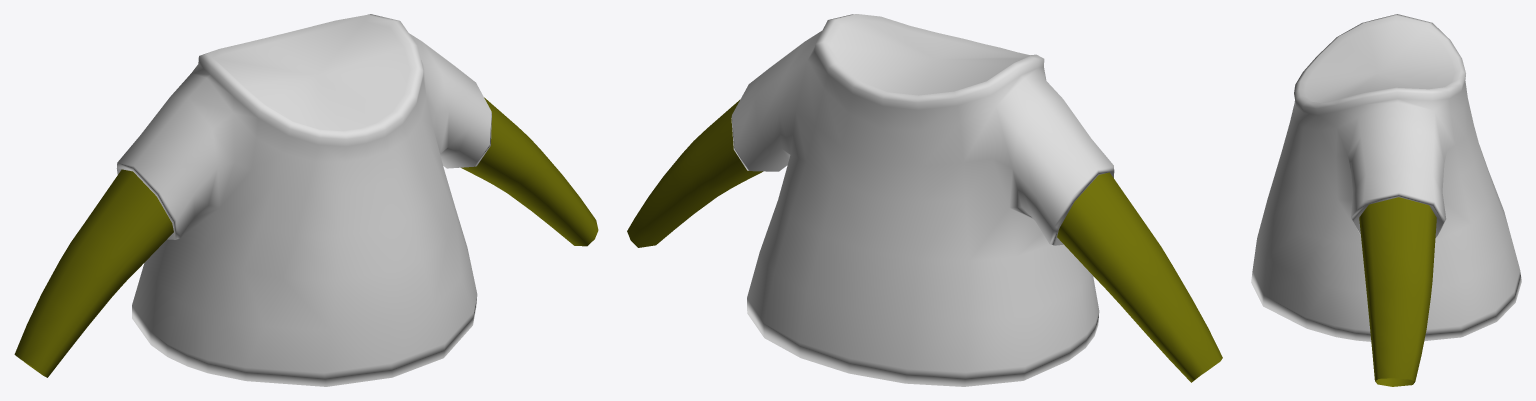
The model's file is rainbowTShirt_0LOD.fbx.
3 renders of one model, left to right at view 1: azimuth 30°, elevation 25°; view 2: azimuth 150°, elevation 25°; view 3: azimuth 270°, elevation 25°, orthographic. The views are drawn at different scales.
Parts seen in each view (by area): view 1: torso; view 2: torso; view 3: torso.
Part boxes in pixels (x1,y1,x2,y2): torso: [14, 14, 598, 386]; torso: [627, 14, 1222, 386]; torso: [1251, 14, 1521, 386].
Bounding box in the file's own units: 76.28 × 34.55 × 36.77.
